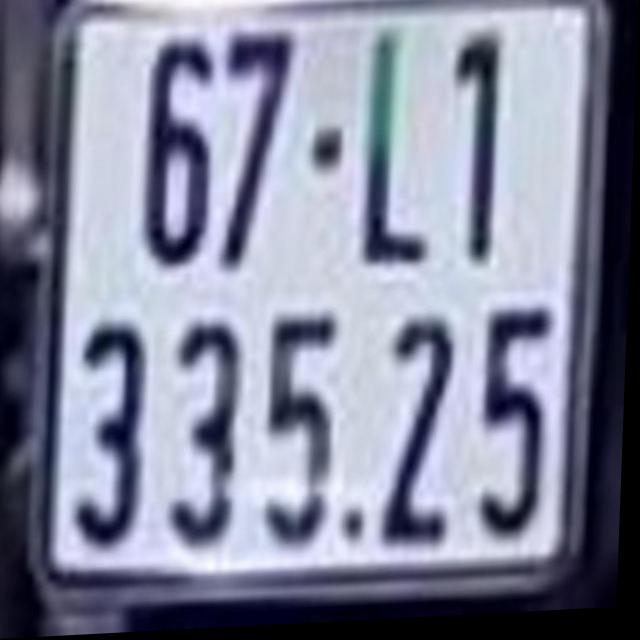1: (452, 23, 501, 272)
2: (391, 313, 458, 542)
3: (77, 317, 149, 545), (176, 318, 242, 551)
5: (482, 304, 556, 542), (271, 315, 339, 549)
6: (145, 36, 217, 268)
7: (218, 32, 297, 268)
L: (365, 31, 439, 275)
